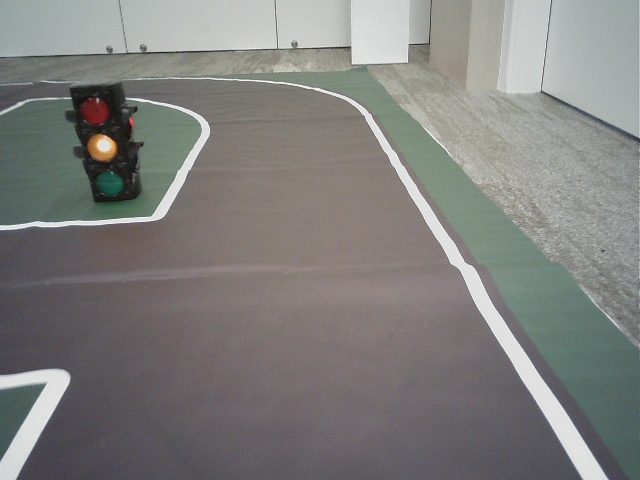yellow: (74, 92, 127, 193)
